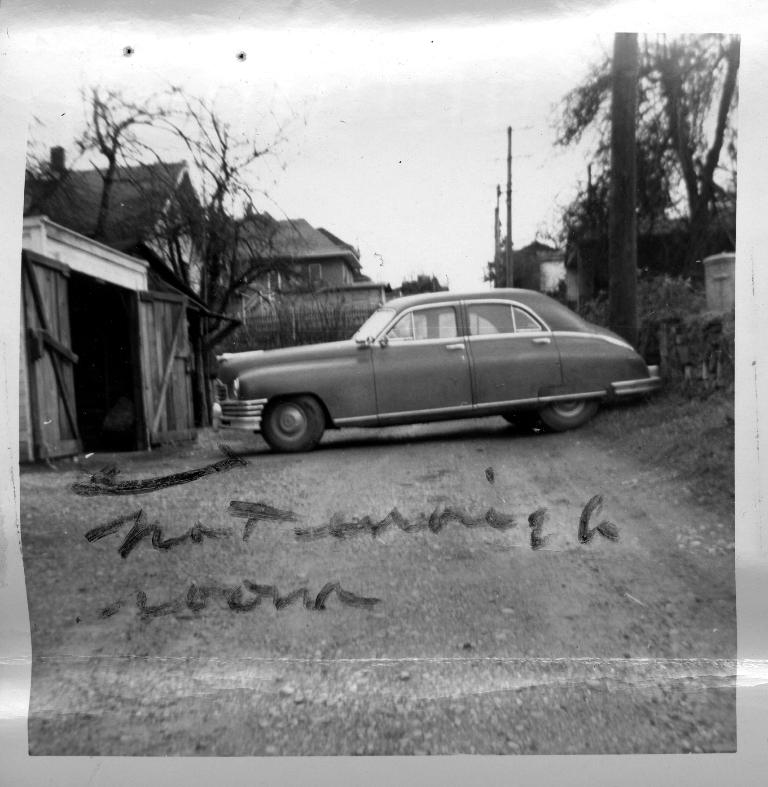Car: (238, 277, 655, 452)
